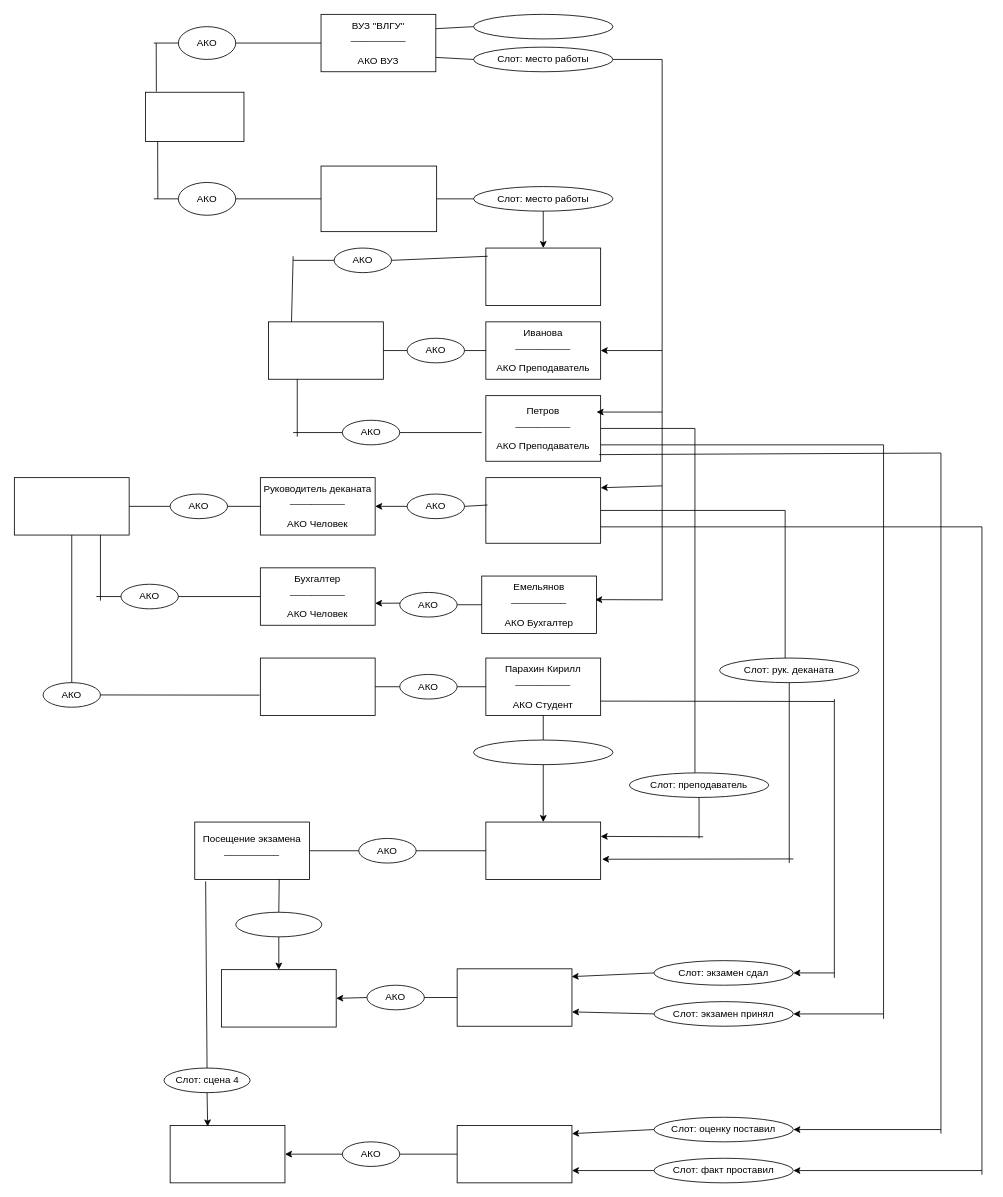
The diagram is 1003 pixels wide and 1197 high, and some of its shapes have lost their labels. Here are the shapes that lost their labels. From the top down, the centre of each, then its label:
[543,26]: Слот: ВУЗ
[194,116]: ВУЗ __________
[378,198]: ВУЗ "Владимирский медицинский филиал" __________ АКО ВУЗ
[543,276]: Семенов __________ АКО Преподаватель
[325,350]: Преподаватель __________ АКО Человек
[71,506]: Человек __________
[543,510]: Краснов __________ АКО Руководитель деканата
[317,686]: Студент __________ АКО Человек
[543,752]: Слот: студент
[543,850]: Посещение экзамена в ВЛГУ __________
[278,924]: Слот: сцена 3
[278,998]: Экзамен Парахина Кирилла __________
[514,997]: Экзамен __________
[227,1154]: Простановка оценки Парахина Кирилла __________
[514,1154]: Простановка оценки __________
